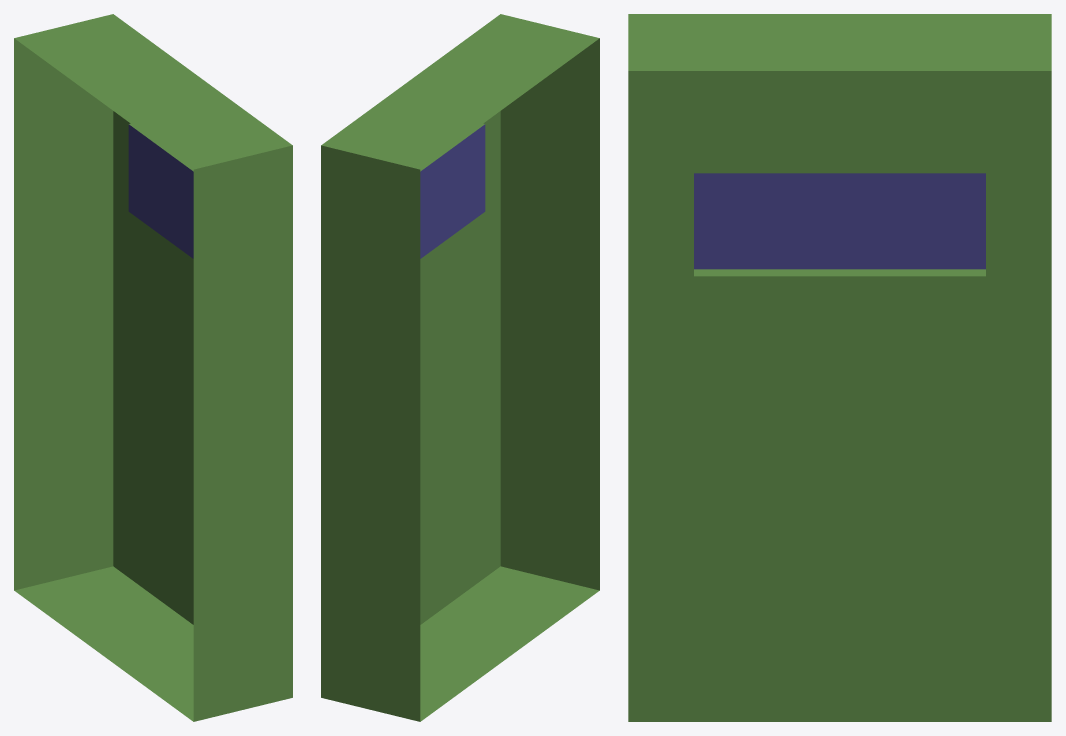
Rendered from Bar Door.fbx.
The picture shows the model from 3 angles, left to right: view 1: azimuth 30°, elevation 25°; view 2: azimuth 150°, elevation 25°; view 3: azimuth 270°, elevation 25°; orthographic projection. The views are drawn at different scales.
Visible parts, largest first — view 1: pCube1; view 2: pCube1; view 3: pCube1.
Part boxes in pixels (bbox=[...]): pCube1: bbox=[14, 14, 292, 721]; pCube1: bbox=[321, 14, 599, 721]; pCube1: bbox=[628, 14, 1051, 721].
Size of the model in its own units: 1 by 5.32 by 3.13.
